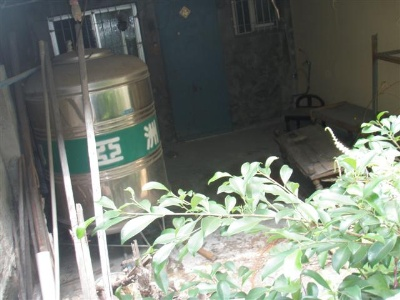water_tower: (22, 47, 171, 247)
